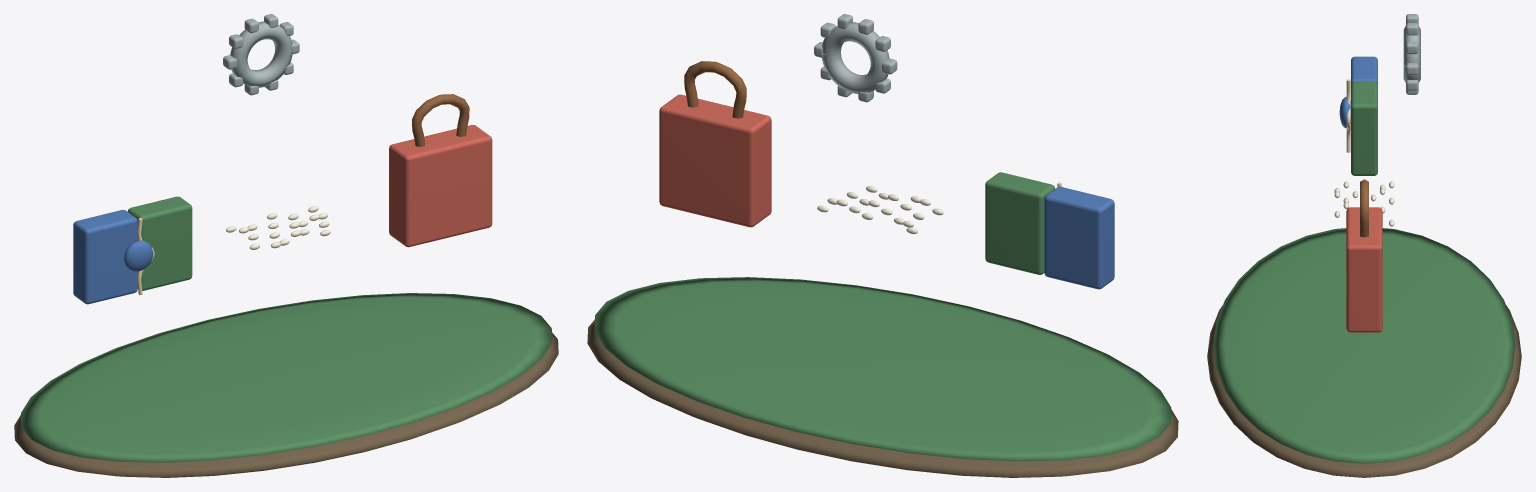
Rendered from complete-third-sculpted-ingredient-bag.glb.
3 renders of one model, left to right at view 1: azimuth 30°, elevation 25°; view 2: azimuth 150°, elevation 25°; view 3: azimuth 270°, elevation 25°, orthographic. The views are drawn at different scales.
Parts seen in each view (by area): view 1: complete-third-sculpted-ingredient-bag_surface_01, complete-third-sculpted-ingredient-bag_surface_05, complete-third-sculpted-ingredient-bag_surface_00, complete-third-sculpted-ingredient-bag_surface_02, complete-third-sculpted-ingredient-bag_surface_07, complete-third-sculpted-ingredient-bag_surface_06, complete-third-sculpted-ingredient-bag_surface_04; view 2: complete-third-sculpted-ingredient-bag_surface_01, complete-third-sculpted-ingredient-bag_surface_05, complete-third-sculpted-ingredient-bag_surface_00, complete-third-sculpted-ingredient-bag_surface_02, complete-third-sculpted-ingredient-bag_surface_07, complete-third-sculpted-ingredient-bag_surface_06, complete-third-sculpted-ingredient-bag_surface_04; view 3: complete-third-sculpted-ingredient-bag_surface_01, complete-third-sculpted-ingredient-bag_surface_00, complete-third-sculpted-ingredient-bag_surface_05, complete-third-sculpted-ingredient-bag_surface_07, complete-third-sculpted-ingredient-bag_surface_02, complete-third-sculpted-ingredient-bag_surface_06, complete-third-sculpted-ingredient-bag_surface_04.
Boxes of the visible parts, left/top/right/bottom form: complete-third-sculpted-ingredient-bag_surface_01: left=21, top=196, right=551, bottom=462; complete-third-sculpted-ingredient-bag_surface_05: left=389, top=125, right=492, bottom=247; complete-third-sculpted-ingredient-bag_surface_00: left=14, top=332, right=558, bottom=477; complete-third-sculpted-ingredient-bag_surface_02: left=73, top=210, right=153, bottom=304; complete-third-sculpted-ingredient-bag_surface_07: left=223, top=14, right=299, bottom=95; complete-third-sculpted-ingredient-bag_surface_06: left=412, top=94, right=469, bottom=146; complete-third-sculpted-ingredient-bag_surface_04: left=226, top=206, right=330, bottom=249; complete-third-sculpted-ingredient-bag_surface_01: left=594, top=172, right=1171, bottom=461; complete-third-sculpted-ingredient-bag_surface_05: left=659, top=94, right=771, bottom=227; complete-third-sculpted-ingredient-bag_surface_00: left=587, top=320, right=1178, bottom=477; complete-third-sculpted-ingredient-bag_surface_02: left=1044, top=186, right=1114, bottom=289; complete-third-sculpted-ingredient-bag_surface_07: left=814, top=14, right=897, bottom=102; complete-third-sculpted-ingredient-bag_surface_06: left=684, top=61, right=746, bottom=118; complete-third-sculpted-ingredient-bag_surface_04: left=817, top=186, right=943, bottom=234; complete-third-sculpted-ingredient-bag_surface_01: left=1213, top=82, right=1515, bottom=463; complete-third-sculpted-ingredient-bag_surface_00: left=1207, top=305, right=1521, bottom=477; complete-third-sculpted-ingredient-bag_surface_05: left=1346, top=207, right=1382, bottom=332; complete-third-sculpted-ingredient-bag_surface_07: left=1403, top=14, right=1420, bottom=94; complete-third-sculpted-ingredient-bag_surface_02: left=1339, top=56, right=1377, bottom=128; complete-third-sculpted-ingredient-bag_surface_06: left=1360, top=179, right=1368, bottom=237; complete-third-sculpted-ingredient-bag_surface_04: left=1334, top=181, right=1394, bottom=226.
Bounding box in the file's own units: 4.56 × 3.08 × 2.5.
